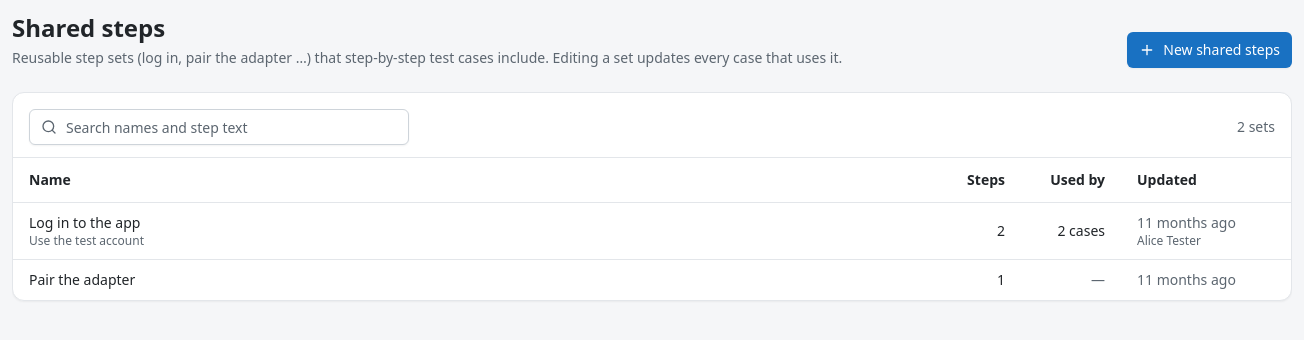
SharedStepsPage › lists the sets and searches names and step text
Expected: the text "Use the test account" is shown, [29,232,144,248]
Expected: the text "2 cases" is shown, [1021,202,1121,259]
Step 1. Type "wps" into the field named "Search shared steps" → (219, 127), box [29,109,409,145]
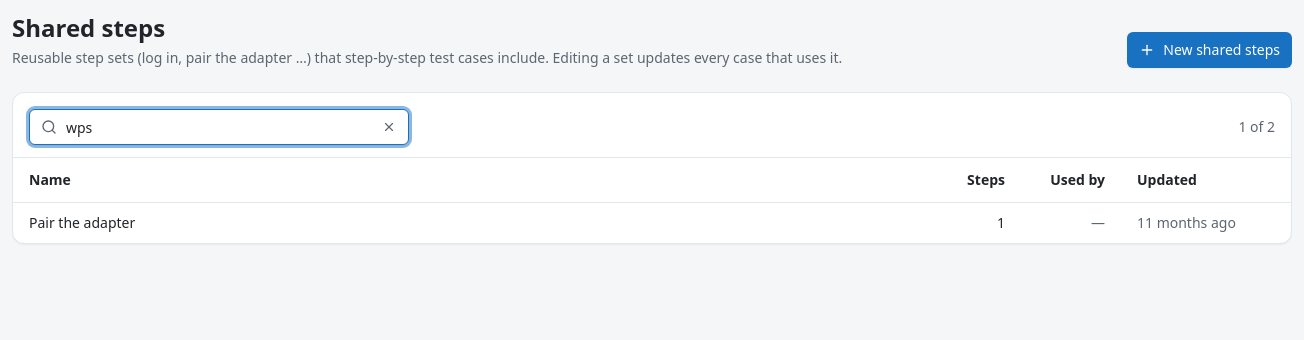
Expected: the row "Pair the adapter" is shown, [13,202,1291,242]
Expected: the text "Log in to the app" is gone
Expected: the text "1 of 2" is shown, [1238,117,1275,137]
Step 2. Type "zzz" into the field named "Search shared steps" → (219, 127), box [29,109,409,145]
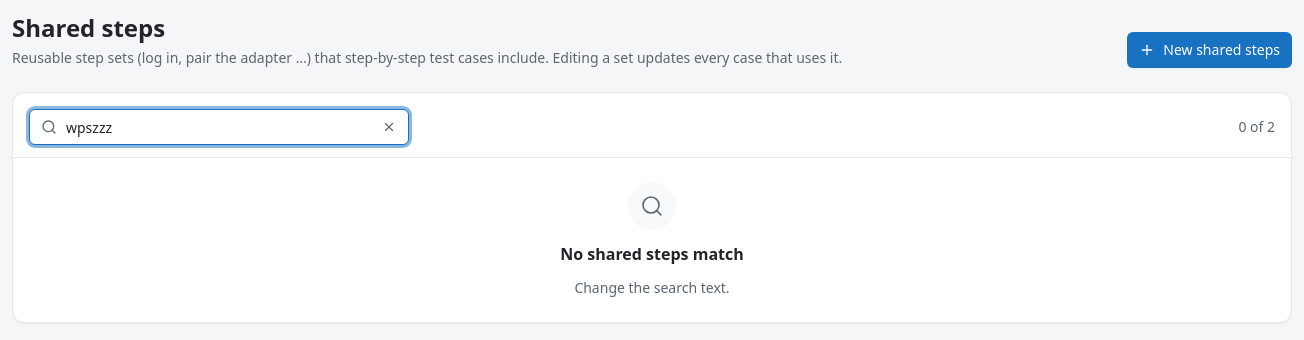
Expected: the heading "No shared steps match" is shown, [560,242,744,266]
